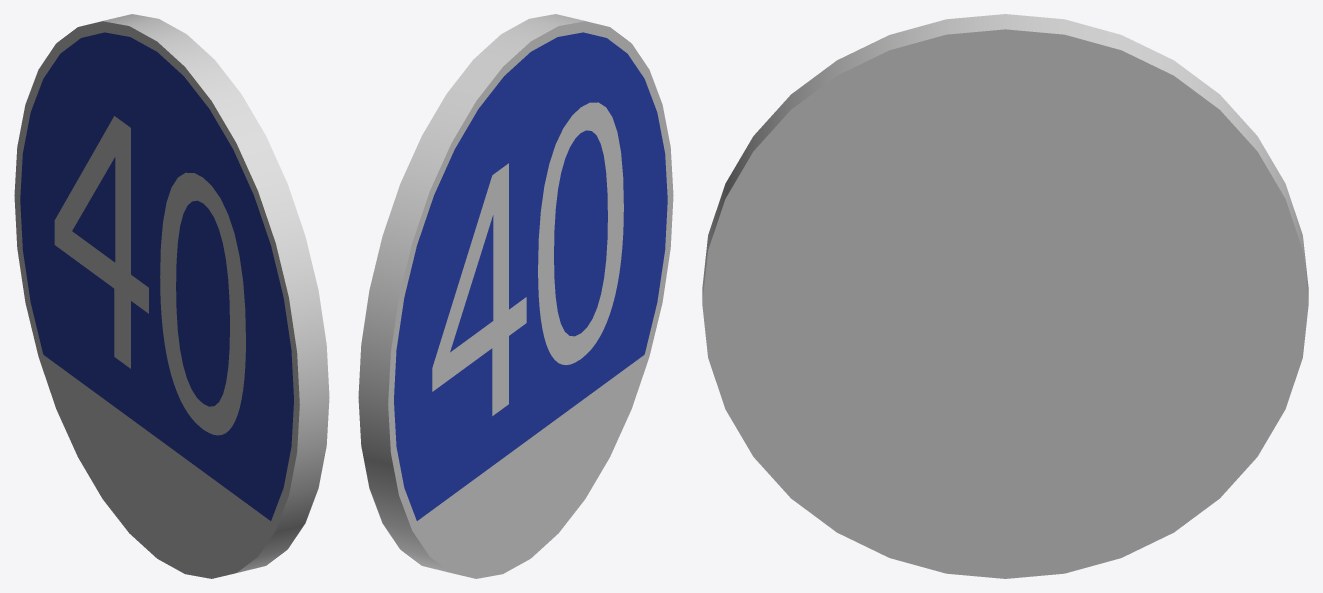
The model's file is Minimum_Speed_Limit_40.fbx.
The picture shows the model from 3 angles, left to right: view 1: azimuth 30°, elevation 25°; view 2: azimuth 150°, elevation 25°; view 3: azimuth 270°, elevation 25°; orthographic projection. The views are drawn at different scales.
Visible parts, largest first — view 1: Minimum_Speed_Limit_40; view 2: Minimum_Speed_Limit_40; view 3: Minimum_Speed_Limit_40.
Boxes of the visible parts, x1=… form: Minimum_Speed_Limit_40: x1=14, y1=14, x2=329, y2=578; Minimum_Speed_Limit_40: x1=358, y1=14, x2=673, y2=578; Minimum_Speed_Limit_40: x1=702, y1=14, x2=1308, y2=578.
Size of the model in its own units: 0.0643 by 1 by 1.
